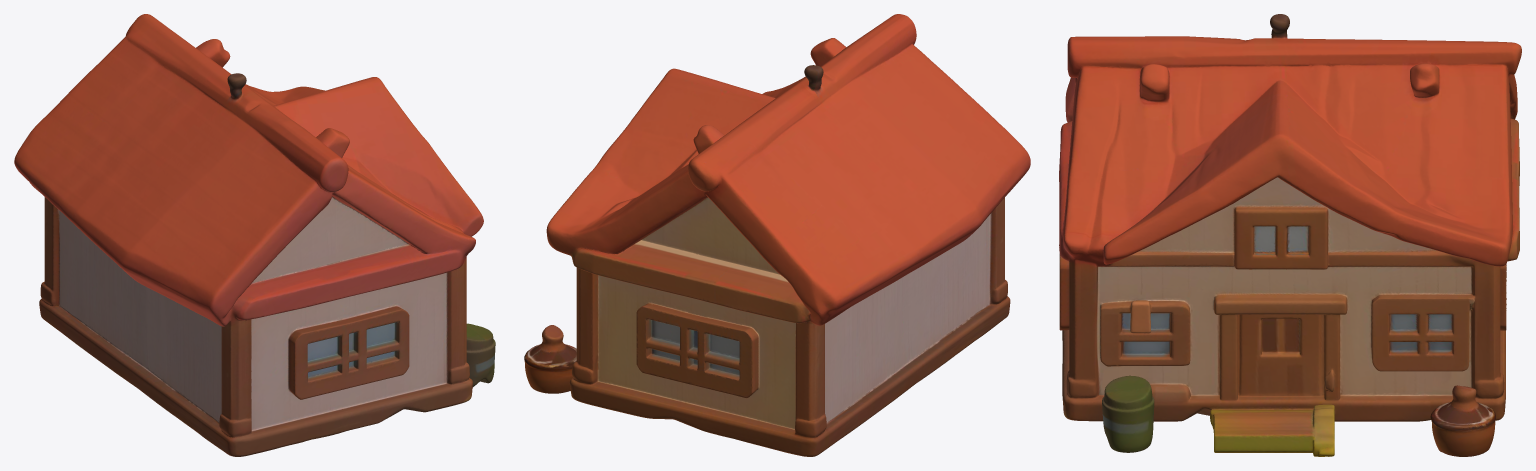
File: house2.glb
The picture shows the model from 3 angles, left to right: view 1: azimuth 30°, elevation 25°; view 2: azimuth 150°, elevation 25°; view 3: azimuth 270°, elevation 25°; orthographic projection. The views are drawn at different scales.
Visible parts, largest first — view 1: tripo_node_1d098434-f0bd-4354-9fe1-f426ceee7964; view 2: tripo_node_1d098434-f0bd-4354-9fe1-f426ceee7964; view 3: tripo_node_1d098434-f0bd-4354-9fe1-f426ceee7964.
Part boxes in pixels (x1,y1,x2,y2): tripo_node_1d098434-f0bd-4354-9fe1-f426ceee7964: (14, 14, 495, 456); tripo_node_1d098434-f0bd-4354-9fe1-f426ceee7964: (524, 14, 1030, 456); tripo_node_1d098434-f0bd-4354-9fe1-f426ceee7964: (1059, 14, 1521, 456).
Size of the model in its own units: 0.9822 by 0.8047 by 1.
1 material, 1 textured.
